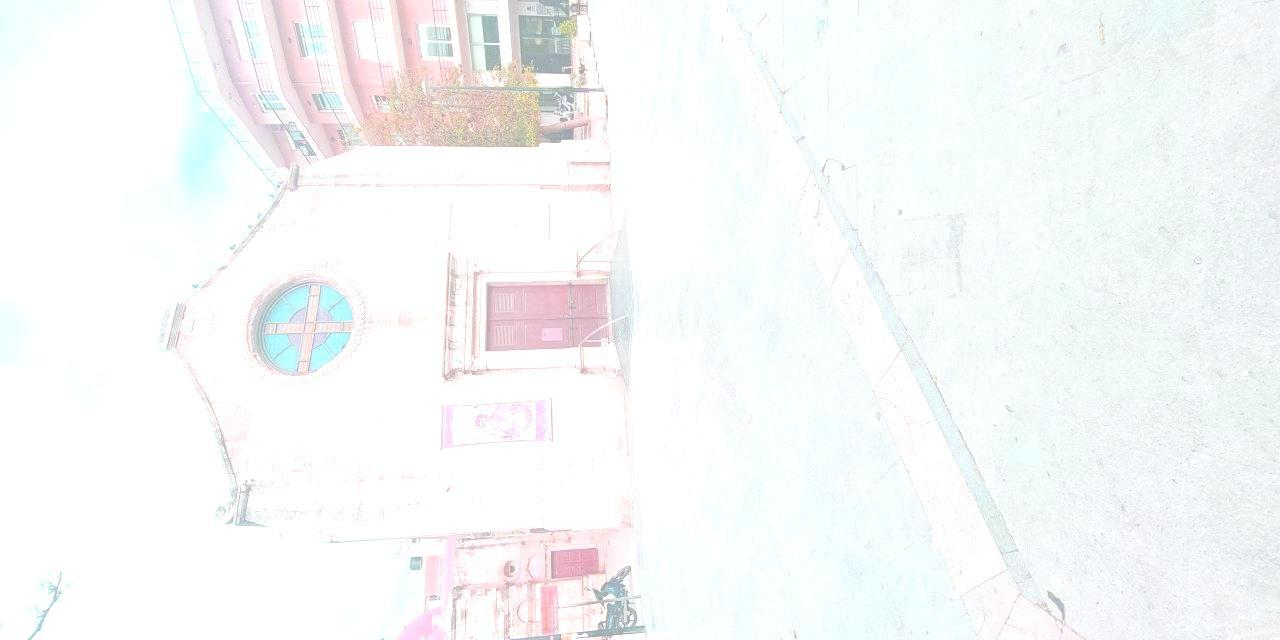Agia Aikaterini: (88, 172, 451, 640)
